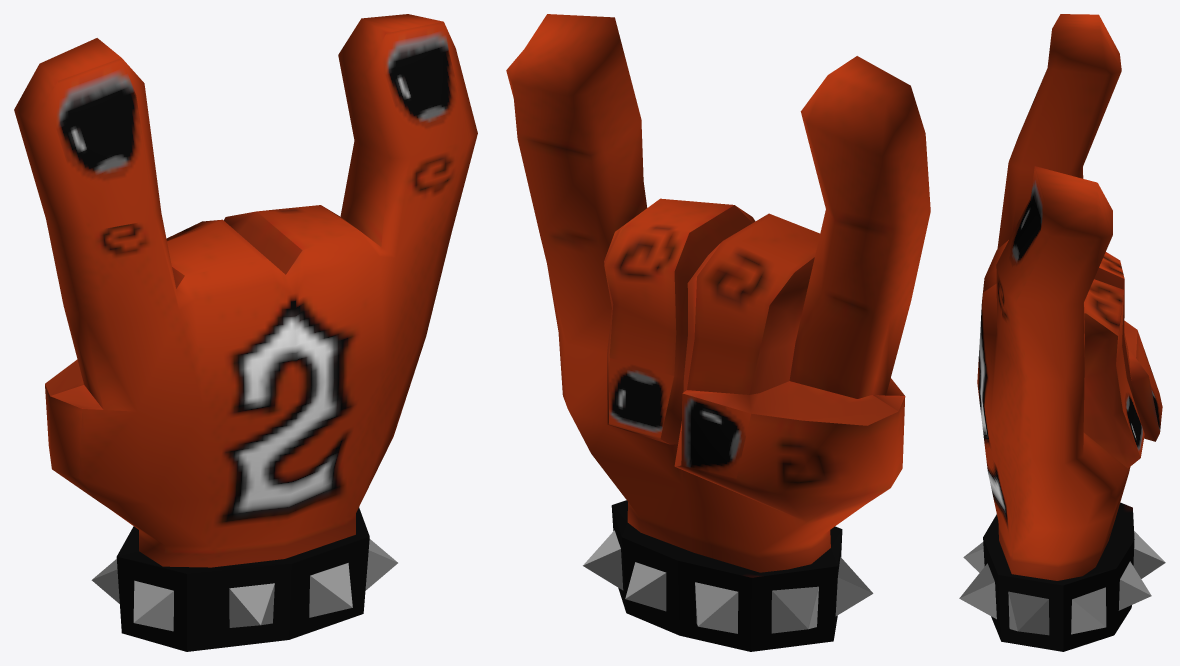
The model's file is gh.icn.obj.
3 renders of one model, left to right at view 1: azimuth 30°, elevation 25°; view 2: azimuth 150°, elevation 25°; view 3: azimuth 270°, elevation 25°, orthographic. The views are drawn at different scales.
Size of the model in its own units: 0.7321 by 0.9901 by 0.3559.
Materials: 1 (1 with a texture image).
